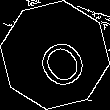O_NW: (23, 22, 87, 88)
